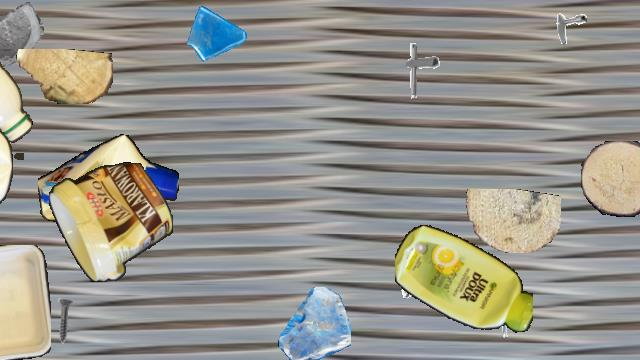glass: (278, 287, 350, 359), (185, 1, 249, 65), (0, 1, 44, 73)
metal: (388, 40, 448, 100), (0, 247, 42, 307), (40, 297, 88, 345), (395, 255, 441, 301), (487, 301, 531, 345), (545, 2, 587, 44)
plastic: (395, 221, 533, 337), (48, 162, 172, 282), (38, 133, 178, 229), (0, 245, 51, 359), (0, 1, 34, 159), (0, 118, 12, 222)
wood: (463, 189, 561, 253), (15, 49, 113, 103), (581, 141, 640, 217), (0, 247, 5, 359), (0, 230, 3, 314)
